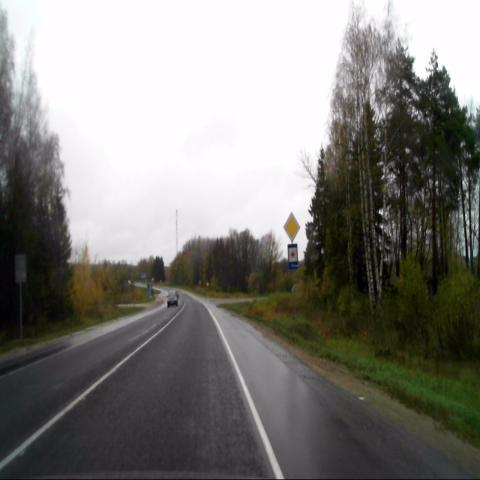7_1: (287, 243, 299, 269)
